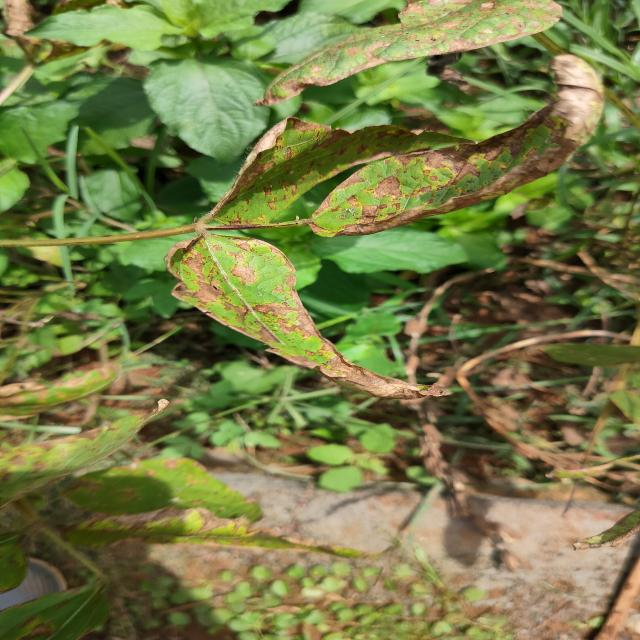Black gram_leaf spot: (310, 54, 604, 236), (165, 232, 448, 399), (254, 0, 562, 104), (200, 117, 466, 225)
